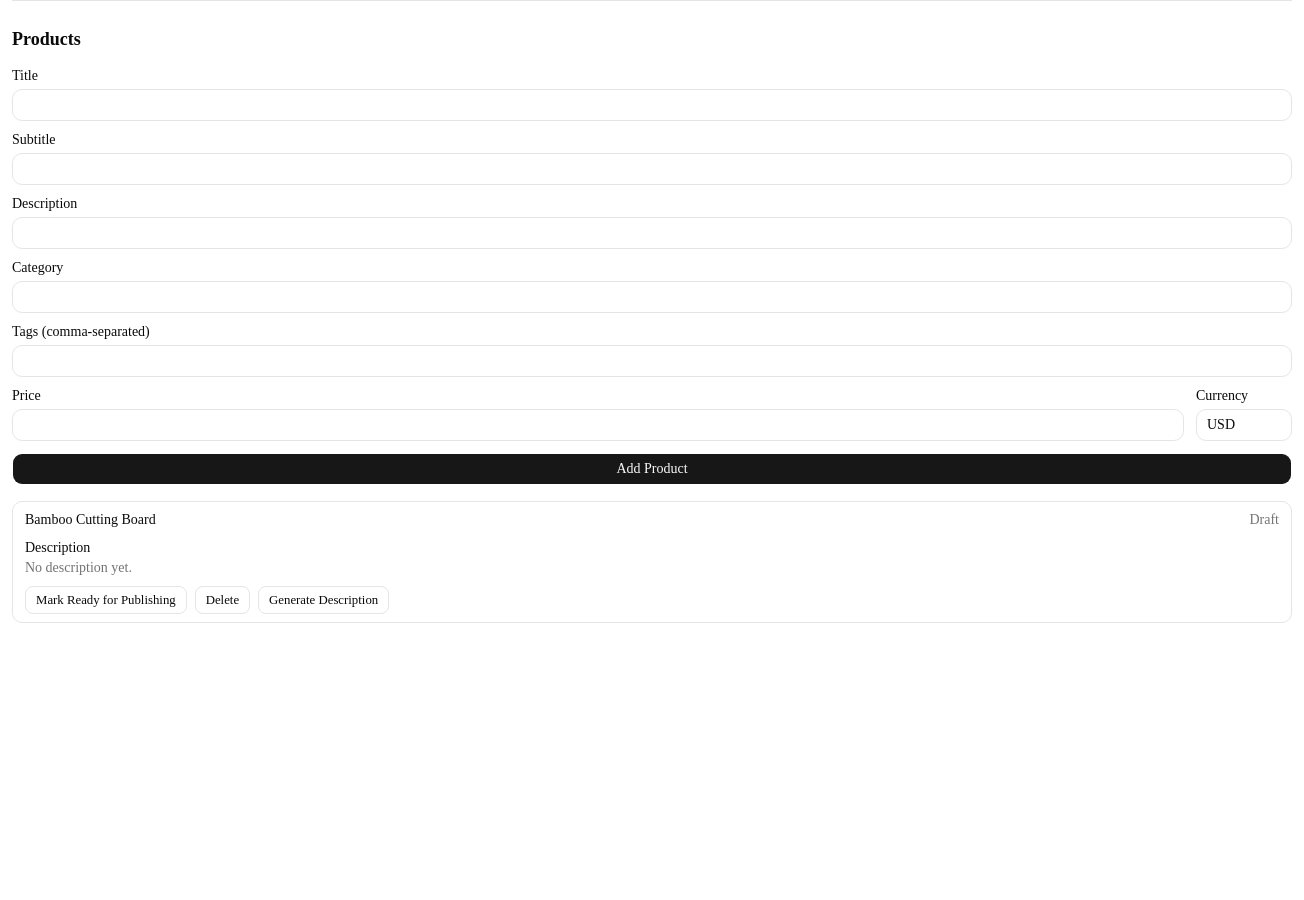
Test case: ProductIntelligenceSection › marks a draft product ready for publishing
Expected: the text "Bamboo Cutting Board" is shown, 25,510 -> 156,530
Step 1. Click the button "Mark Ready for Publishing" → [106, 600], box 25,586 -> 187,614
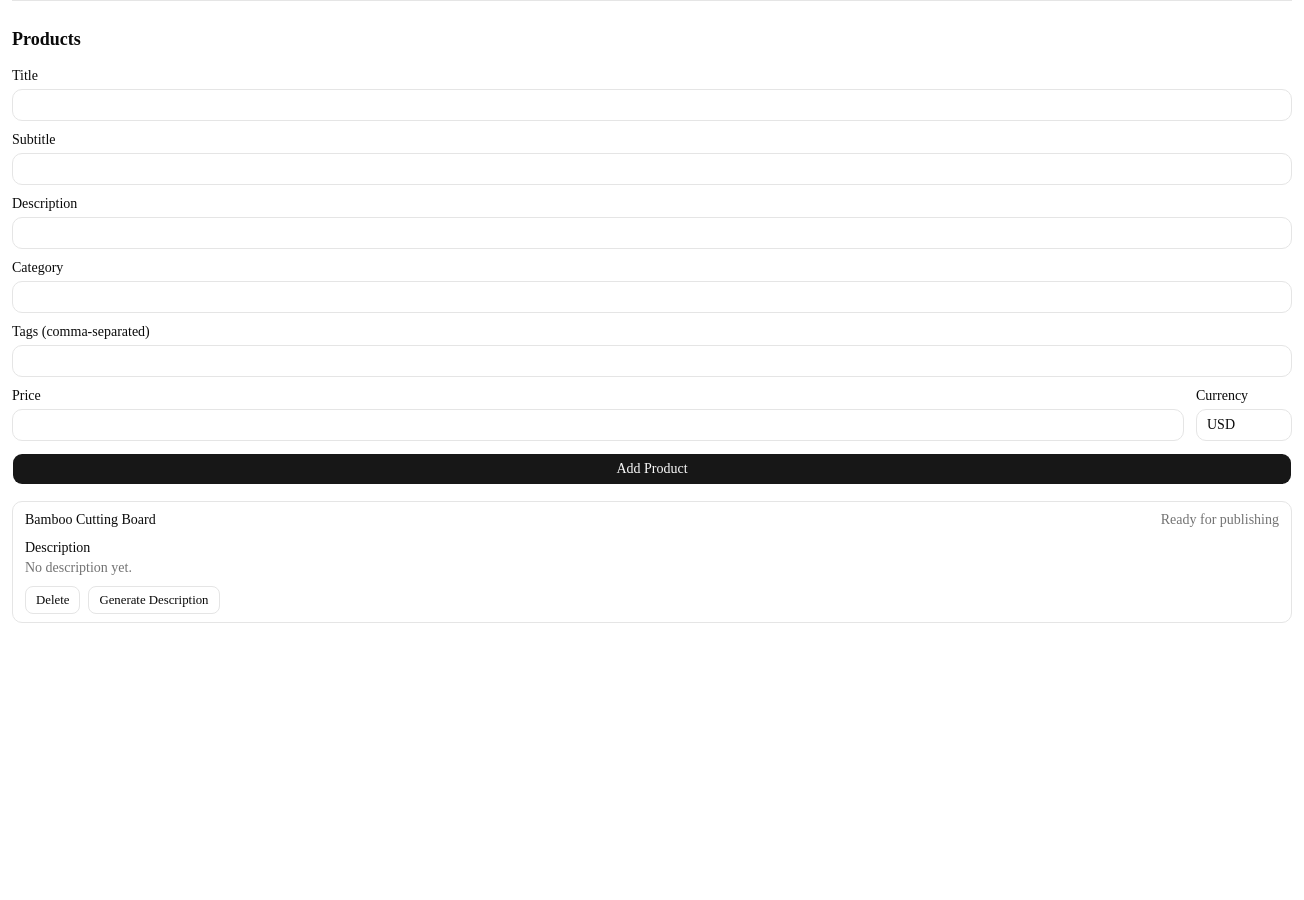
Result: the text "Ready for publishing" is shown at 1161,510 -> 1279,530
